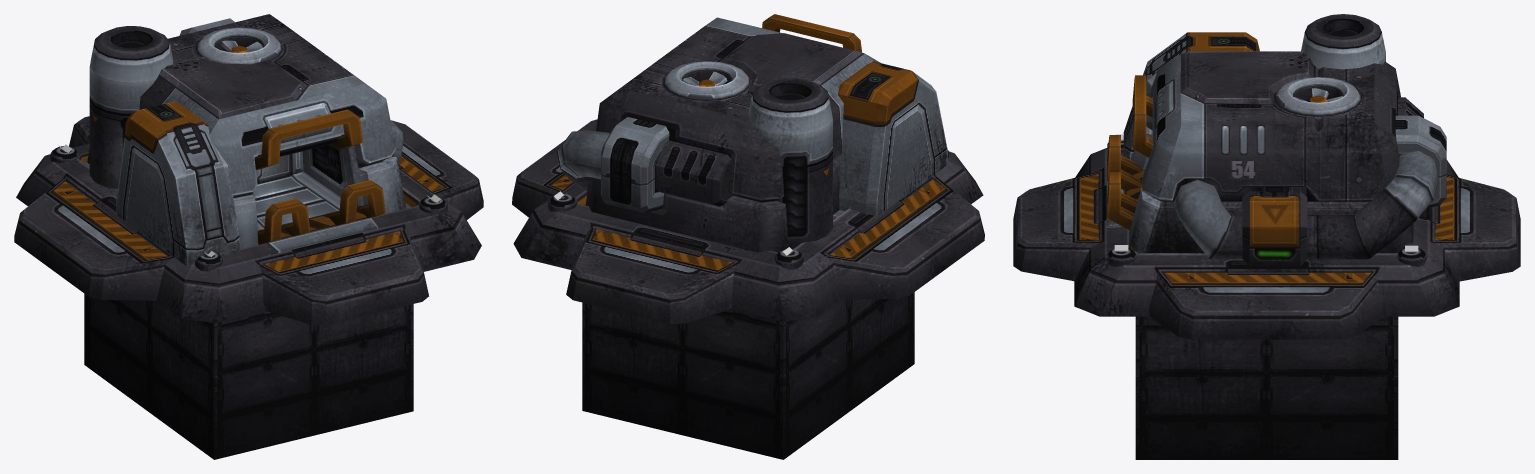
File: supplydepot.fbx
The picture shows the model from 3 angles, left to right: view 1: azimuth 30°, elevation 25°; view 2: azimuth 150°, elevation 25°; view 3: azimuth 270°, elevation 25°; orthographic projection.
Parts seen in each view (by area): view 1: Geoset_0; view 2: Geoset_0; view 3: Geoset_0.
Boxes of the visible parts, x1,y1,x2,y2 form: Geoset_0: [14, 14, 483, 459]; Geoset_0: [512, 14, 984, 459]; Geoset_0: [1013, 14, 1520, 459].
Size of the model in its own units: 3.66 by 3.03 by 4.04.
Materials: 1 (1 with a texture image).
